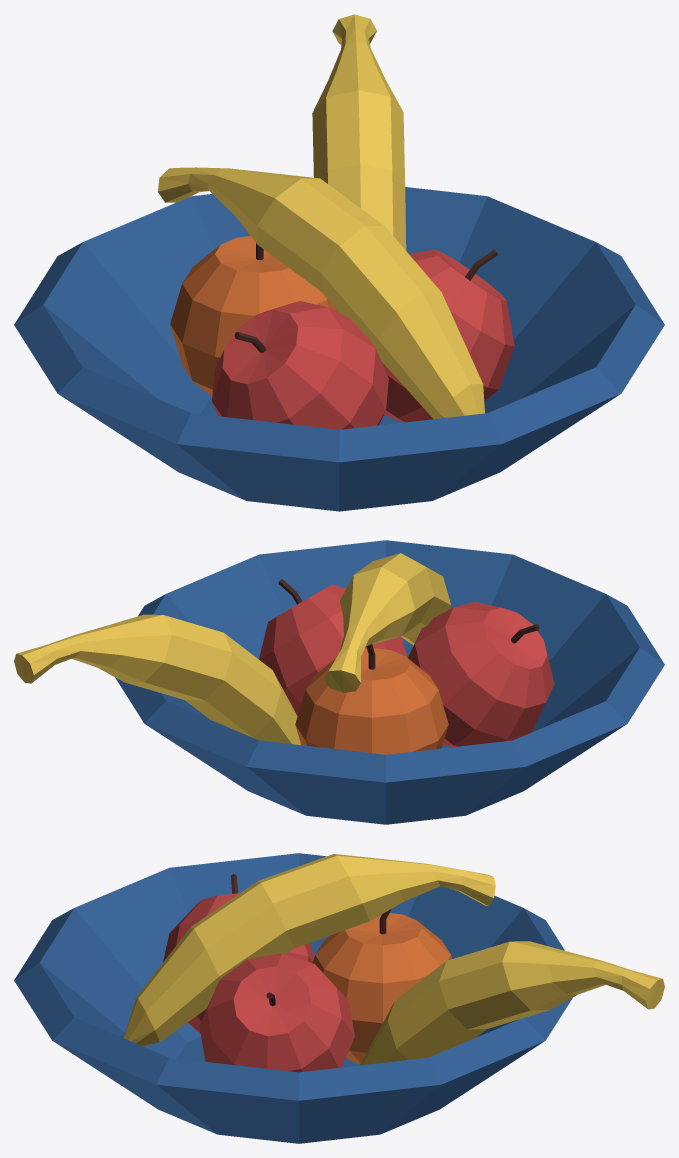
The model's file is decor-bowl.glb.
3 renders of one model, top to bottom at view 1: azimuth 30°, elevation 25°; view 2: azimuth 150°, elevation 25°; view 3: azimuth 270°, elevation 25°, orthographic. The views are drawn at different scales.
Parts seen in each view (by area): view 1: FruitBowl; view 2: FruitBowl; view 3: FruitBowl.
Boxes of the visible parts, bbox=[...] form: FruitBowl: bbox=[14, 14, 664, 511]; FruitBowl: bbox=[14, 540, 664, 824]; FruitBowl: bbox=[14, 853, 664, 1143].
Size of the model in its own units: 0.28 by 0.1227 by 0.3198.
1 material, 1 textured.
